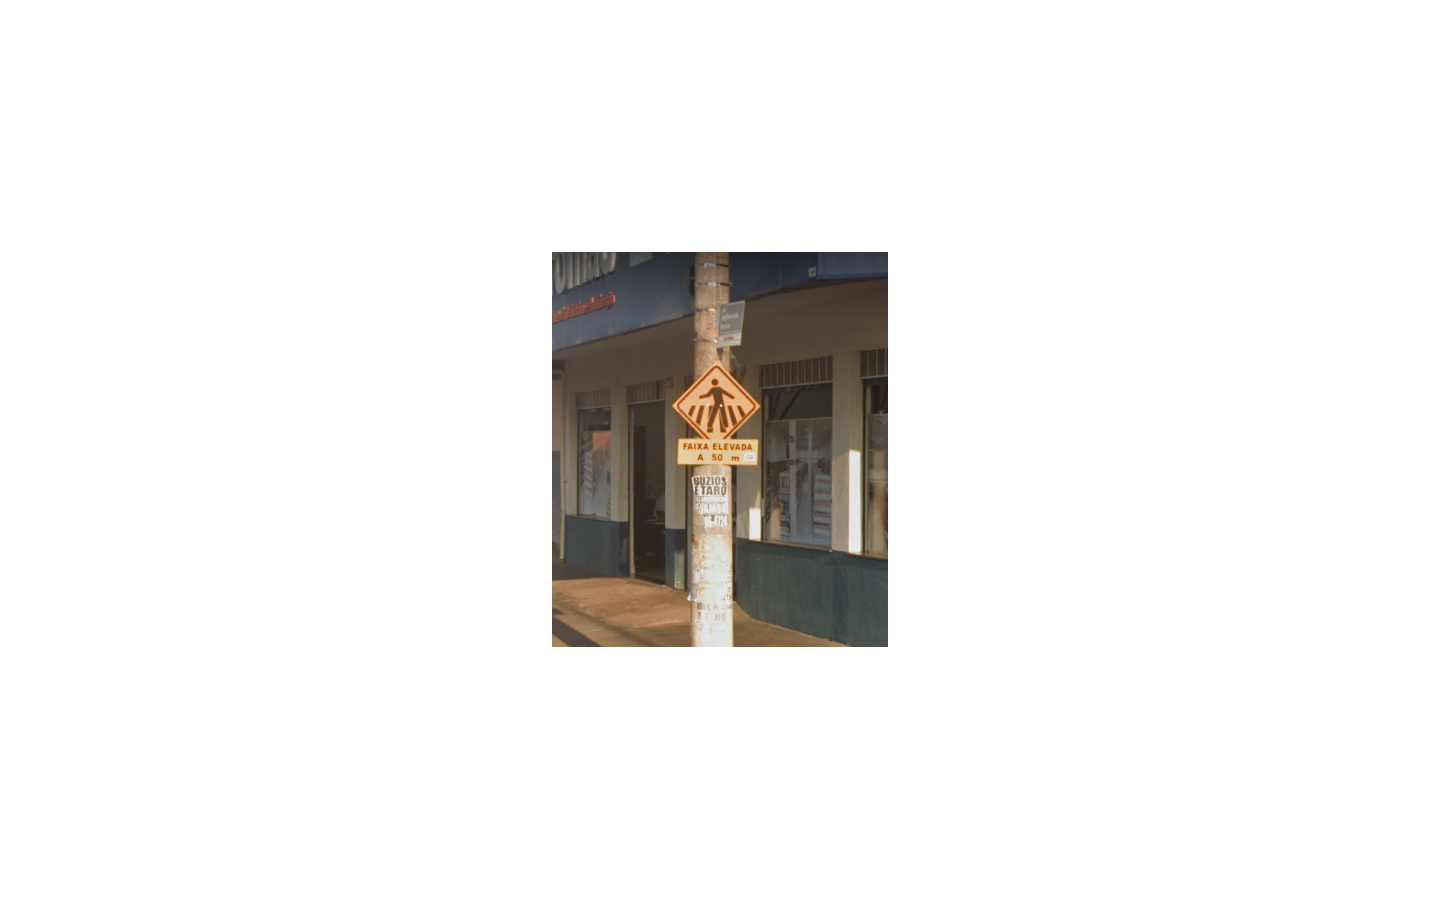t50m: (674, 362, 759, 465)
